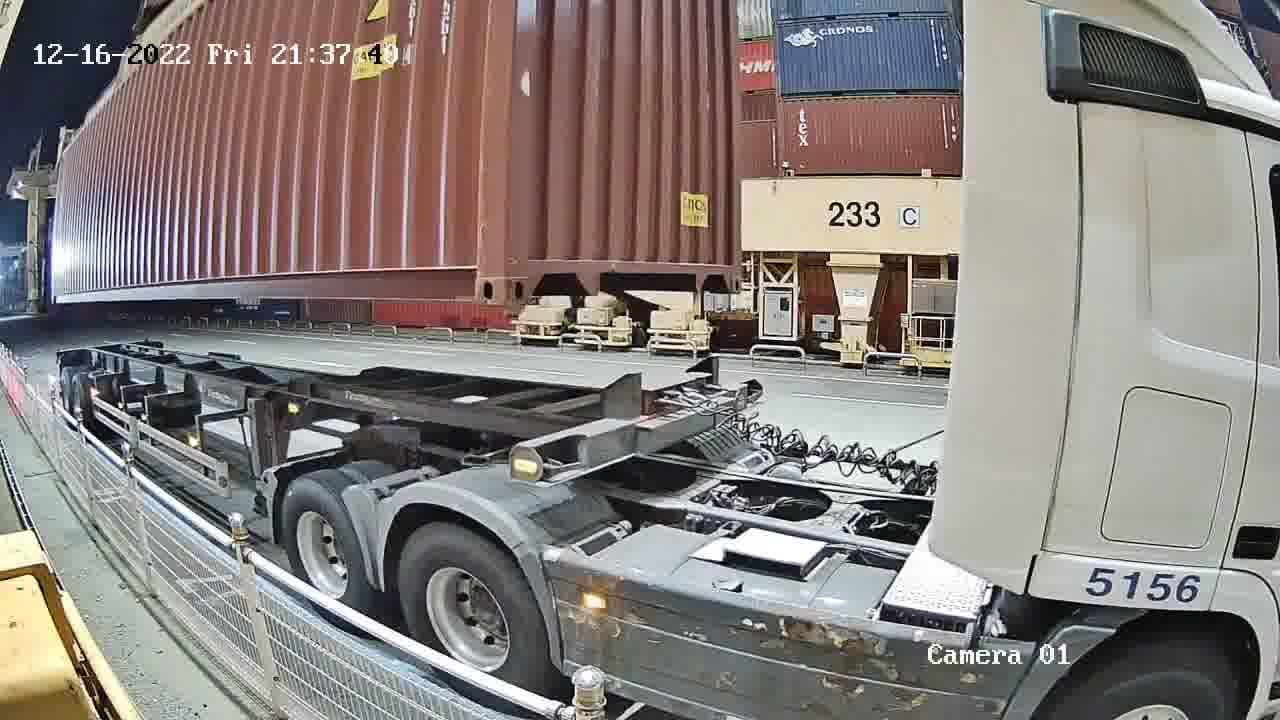Chassis: (514, 385, 769, 486)
Container: (504, 231, 743, 308)
Hole_L: (504, 227, 545, 307)
Hole_R: (444, 227, 504, 306), (718, 243, 743, 294)
Tire: (400, 527, 544, 697), (283, 483, 368, 618)
